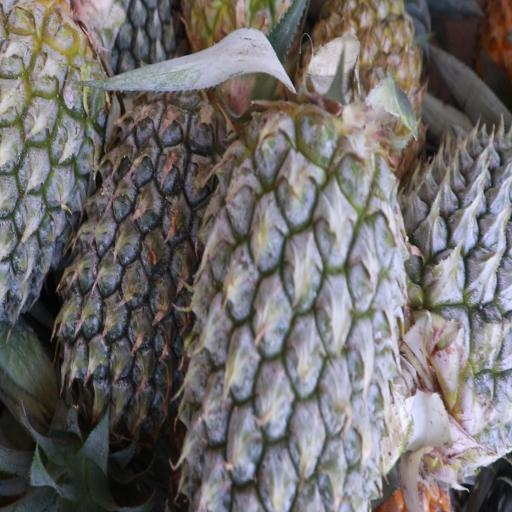Pineapple - v8 v1: (315, 0, 425, 156)
